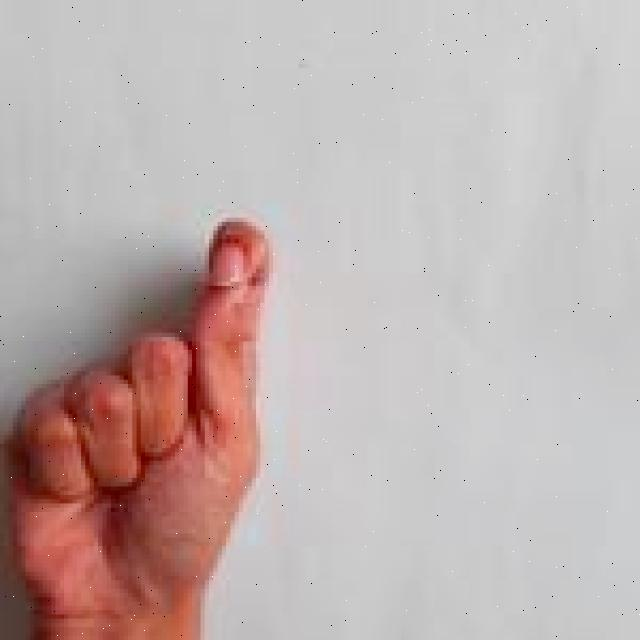T: (0, 215, 274, 640)
